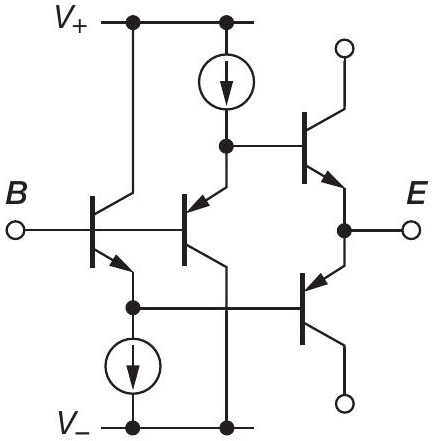current: (101, 333, 164, 398), (194, 49, 257, 111)
npn: (82, 187, 142, 279), (296, 102, 352, 195)
pnp: (293, 262, 354, 354), (174, 184, 234, 273)
